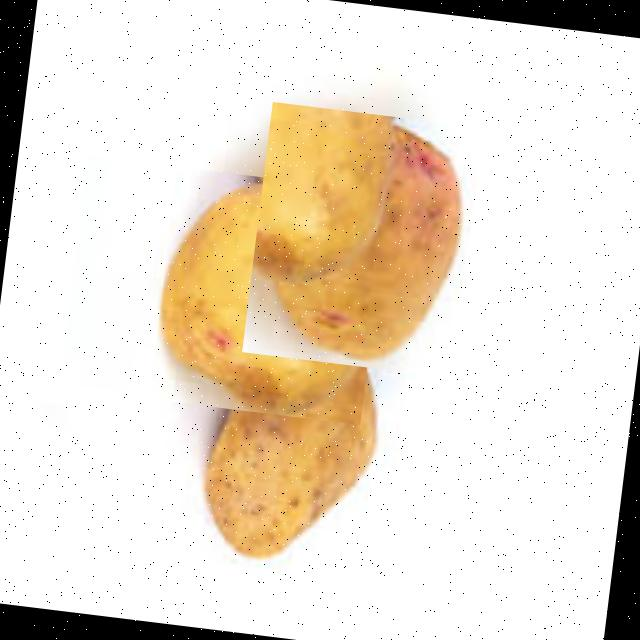Diseased-fungal potato: (242, 100, 492, 378), (192, 316, 396, 578)
Potato: (145, 165, 388, 424)
